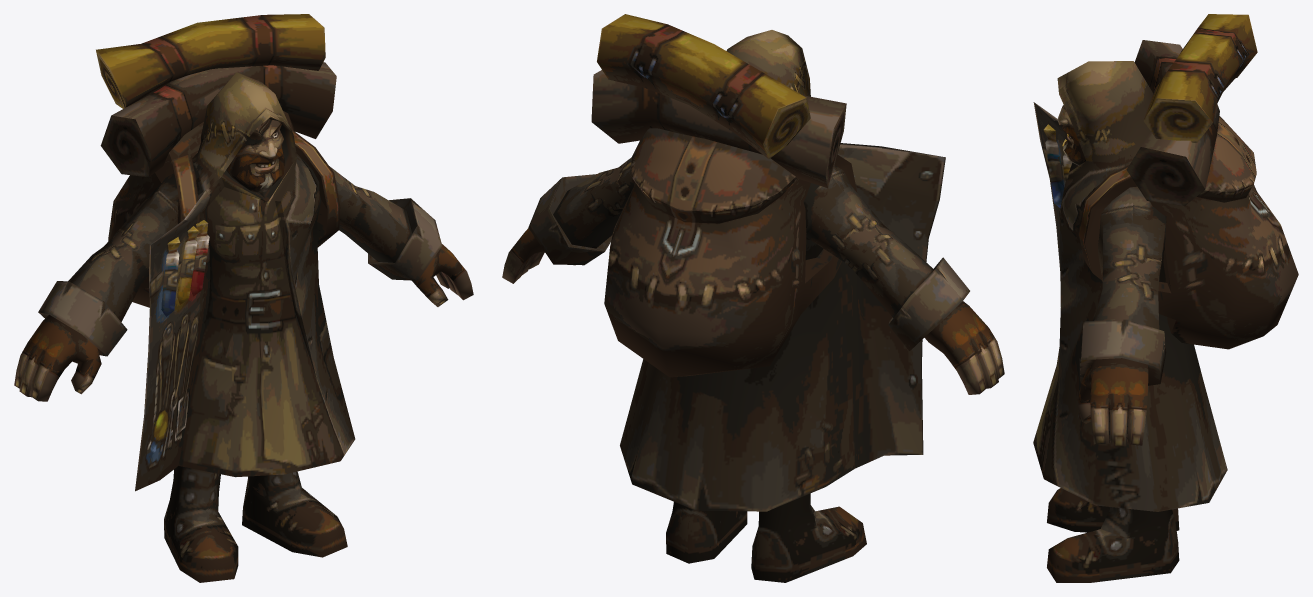
File: gambler_1859e352.glb
The picture shows the model from 3 angles, left to right: view 1: azimuth 30°, elevation 25°; view 2: azimuth 150°, elevation 25°; view 3: azimuth 270°, elevation 25°; orthographic projection. The views are drawn at different scales.
Bounding box in the file's own units: 2.35 × 2.47 × 1.18.
1 material, 1 textured.
